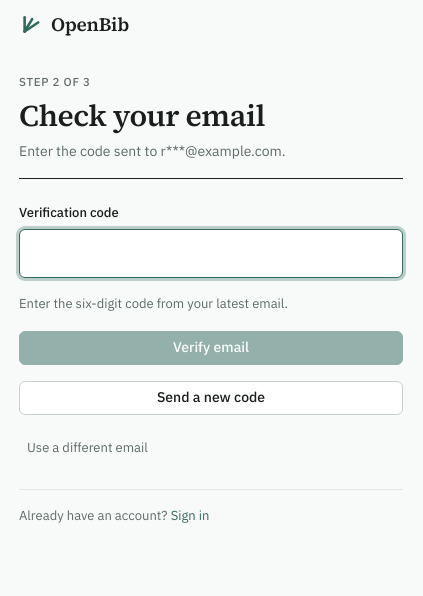
Test: mailbox-first registration › sends a new code only when the cooldown is over
Click the button "Send a new code" at (211, 398), box [19, 381, 403, 415]
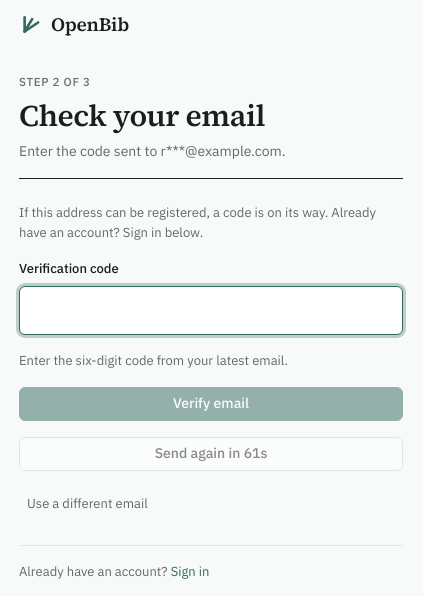
Expected: the button "Send again in 61s" is disabled, [19, 437, 403, 471]
